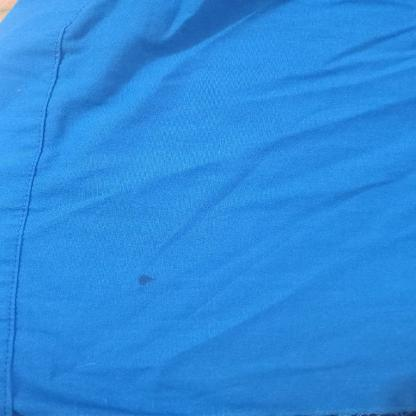spot: (121, 270, 174, 288)
